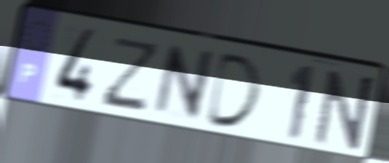1: (286, 62, 317, 143)
4: (51, 24, 101, 107)
D: (202, 50, 264, 132)
N: (312, 67, 378, 153), (150, 43, 219, 124)
Z: (98, 35, 164, 114)
